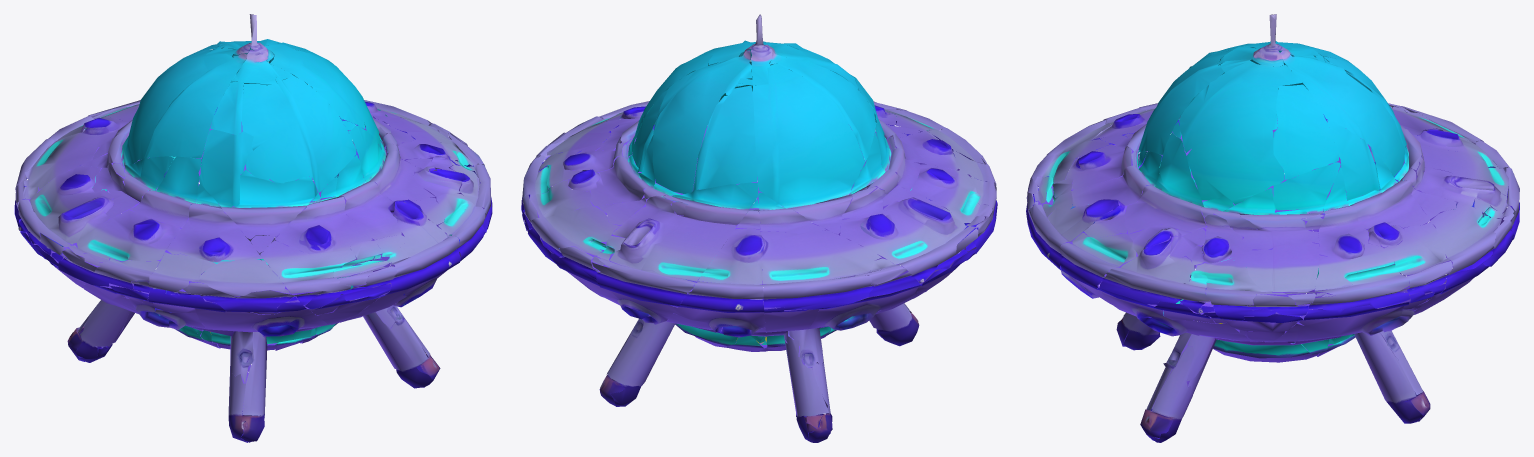
The model's file is TripoFlyingSaucer.fbx.
The picture shows the model from 3 angles, left to right: view 1: azimuth 30°, elevation 25°; view 2: azimuth 150°, elevation 25°; view 3: azimuth 270°, elevation 25°; orthographic projection. The views are drawn at different scales.
Visible parts, largest first — view 1: TripoFlyingSaucer; view 2: TripoFlyingSaucer; view 3: TripoFlyingSaucer.
Part boxes in pixels (box(x1,y1,x2,y2)): TripoFlyingSaucer: box(14, 14, 492, 442); TripoFlyingSaucer: box(521, 14, 997, 442); TripoFlyingSaucer: box(1026, 14, 1519, 442).
Bounding box in the file's own units: 3.73 × 3.73 × 3.1.
1 material, 1 textured.
